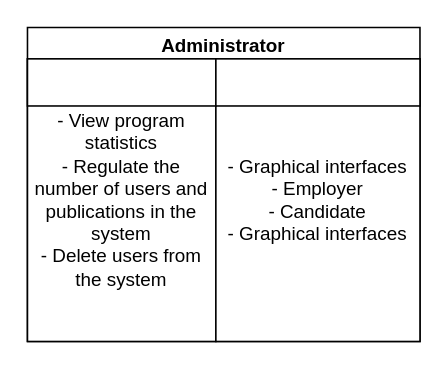
This 447x369 diagram has some shape labels left out. The shapes that lost their labels are listed below. From the top down, each one's centre as x and y in pixels, then its label:
At point 121,81: "Responsabilities".
At point 317,81: "Collaboration".
